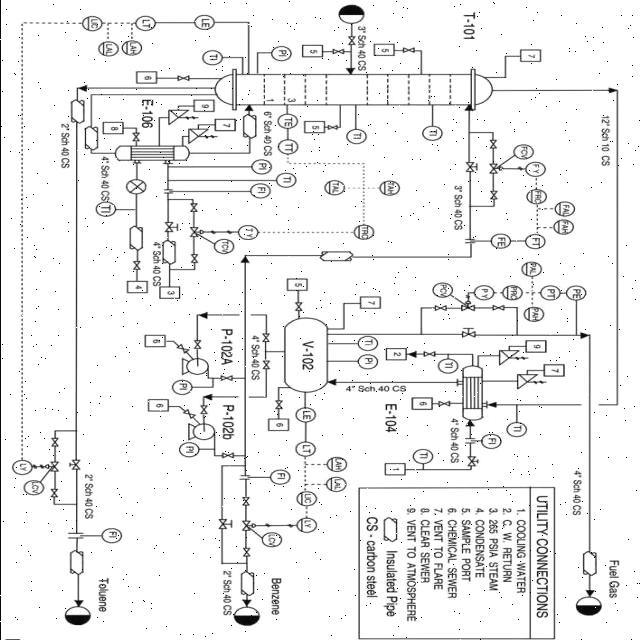Centrifugal Pump: (176, 354, 211, 377), (181, 421, 218, 441)
Gate Valve: (236, 488, 252, 512), (398, 42, 419, 54), (130, 257, 148, 271), (329, 46, 346, 60), (418, 350, 441, 360), (238, 546, 254, 560), (273, 394, 285, 412), (487, 188, 502, 202), (196, 404, 212, 417), (173, 342, 190, 354), (190, 336, 204, 350), (290, 300, 306, 312), (344, 33, 358, 46), (184, 406, 198, 419), (47, 486, 60, 500), (260, 358, 273, 372), (177, 70, 192, 82), (217, 374, 235, 384), (220, 450, 237, 460), (130, 130, 142, 144), (260, 330, 272, 344), (430, 306, 450, 314), (187, 202, 199, 215), (487, 137, 498, 151), (48, 436, 62, 447), (436, 400, 451, 410), (488, 304, 504, 312), (187, 253, 199, 263), (327, 124, 339, 132)
Hand Operated Gate Valve: (213, 517, 236, 531), (458, 326, 481, 339), (462, 160, 480, 176), (163, 218, 180, 234), (465, 455, 480, 468)
Orifice: (233, 470, 255, 483), (461, 435, 478, 448), (462, 234, 476, 247)
PSV: (494, 344, 528, 369), (510, 372, 546, 393), (164, 106, 199, 127), (184, 124, 216, 146)
Pneumatic-Diaphragm Gate Valve: (457, 300, 478, 316), (486, 161, 505, 178), (240, 518, 256, 532)
